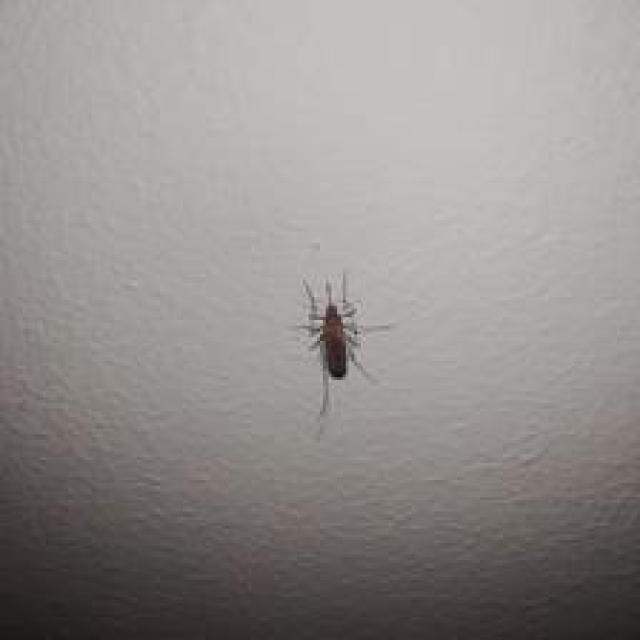Culex: (294, 272, 392, 417)
